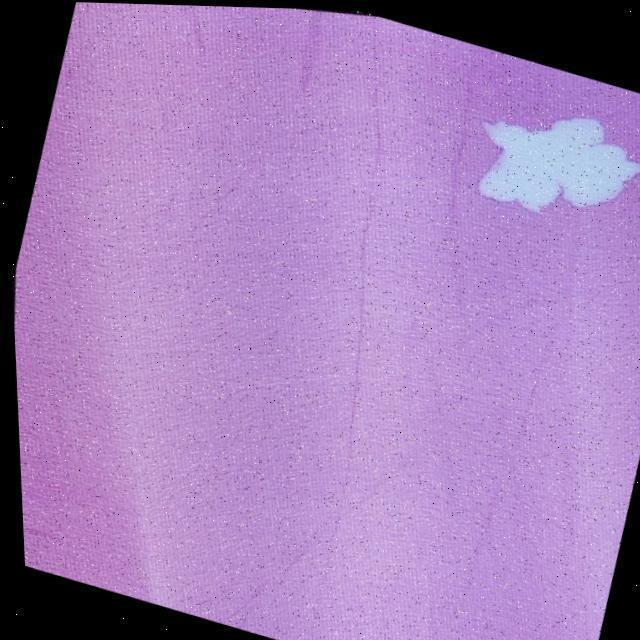pulled_or_thick_thread: (293, 78, 386, 640)
